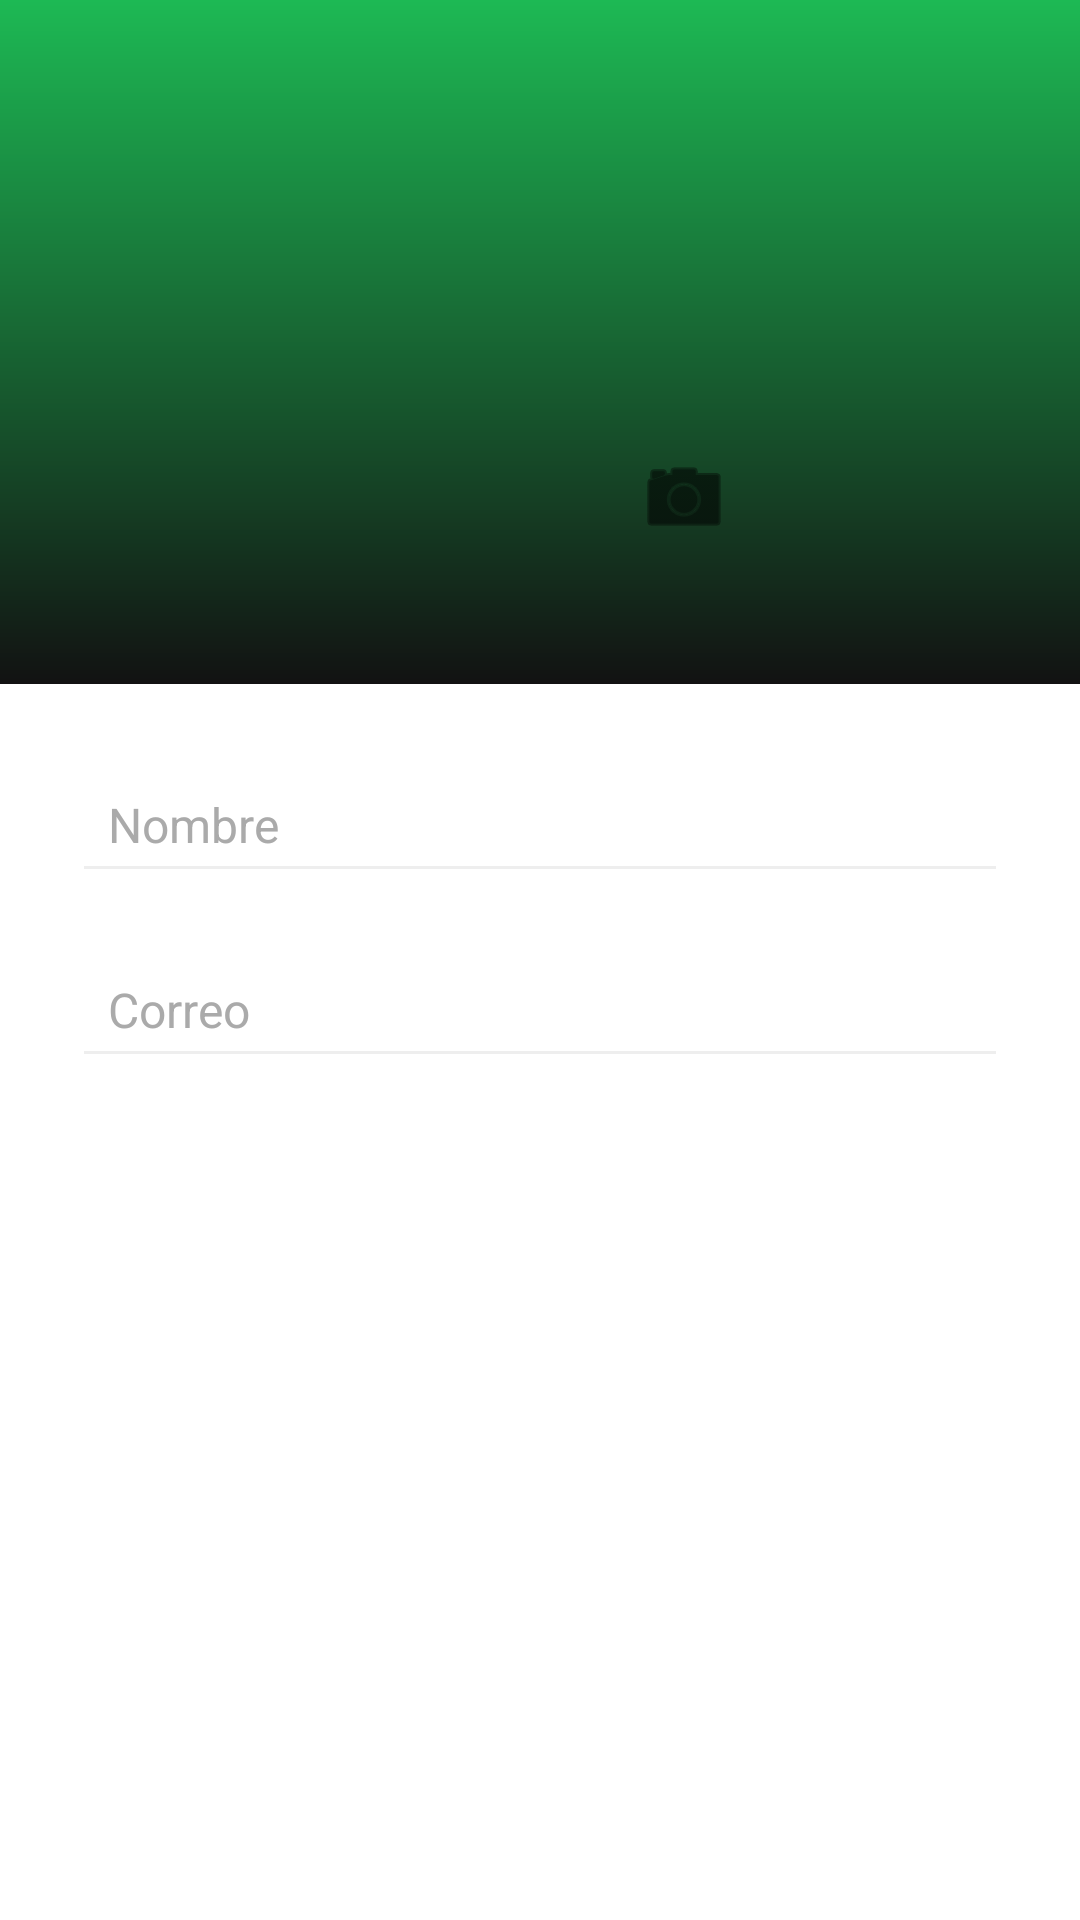

Where icons sit on this 1080px×1920px app screen, as (x1, y1, x2, y2):
Cambiar imagen: (647, 468, 721, 526)
